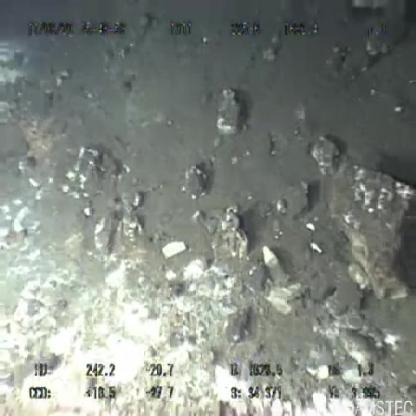Rác: (260, 240, 289, 289)
